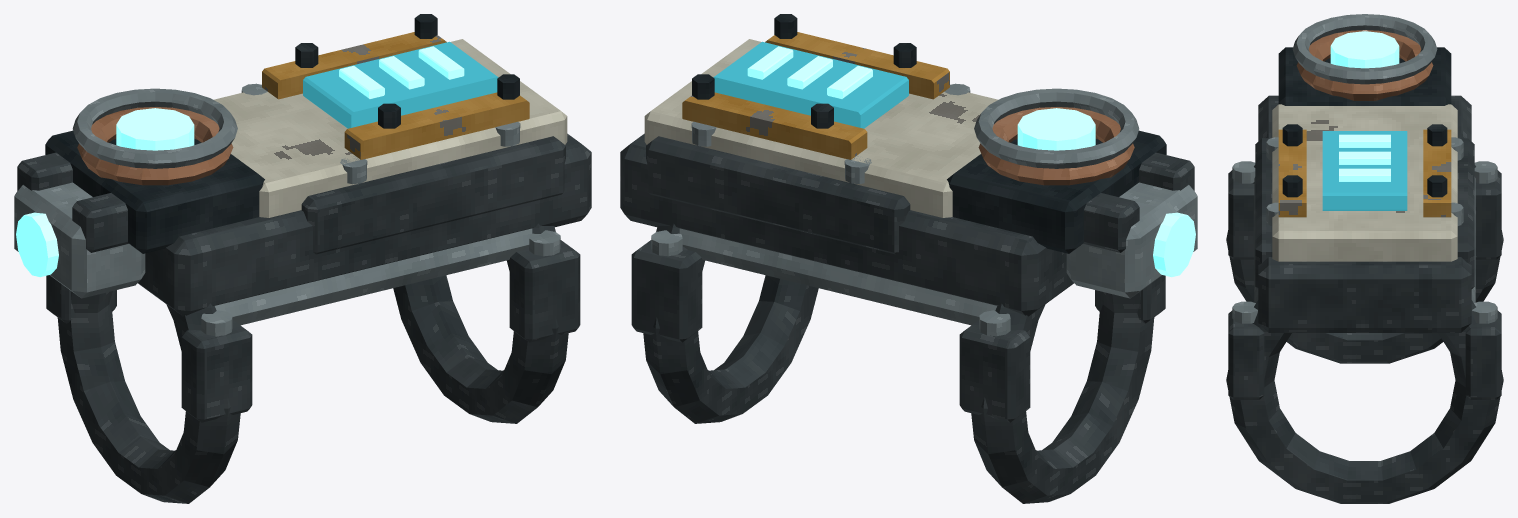
The model's file is glyph_gauntlet_right.glb.
The picture shows the model from 3 angles, left to right: view 1: azimuth 30°, elevation 25°; view 2: azimuth 150°, elevation 25°; view 3: azimuth 270°, elevation 25°; orthographic projection. The views are drawn at different scales.
Parts seen in each view (by area): view 1: glyph_gauntlet_right; view 2: glyph_gauntlet_right; view 3: glyph_gauntlet_right.
Part boxes in pixels (x1,y1,x2,y2): glyph_gauntlet_right: (14, 14, 591, 503); glyph_gauntlet_right: (620, 14, 1197, 503); glyph_gauntlet_right: (1226, 14, 1503, 503).
Size of the model in its own units: 0.254 by 0.1774 by 0.138.
8 materials, 6 textured.
